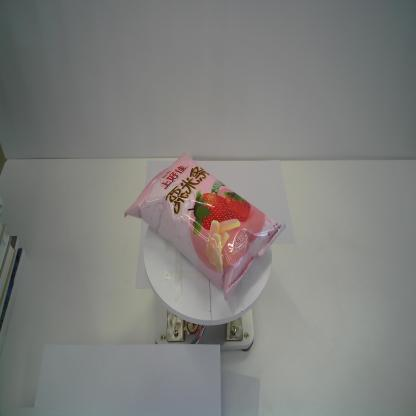Puffed Food: (121, 150, 284, 302)
